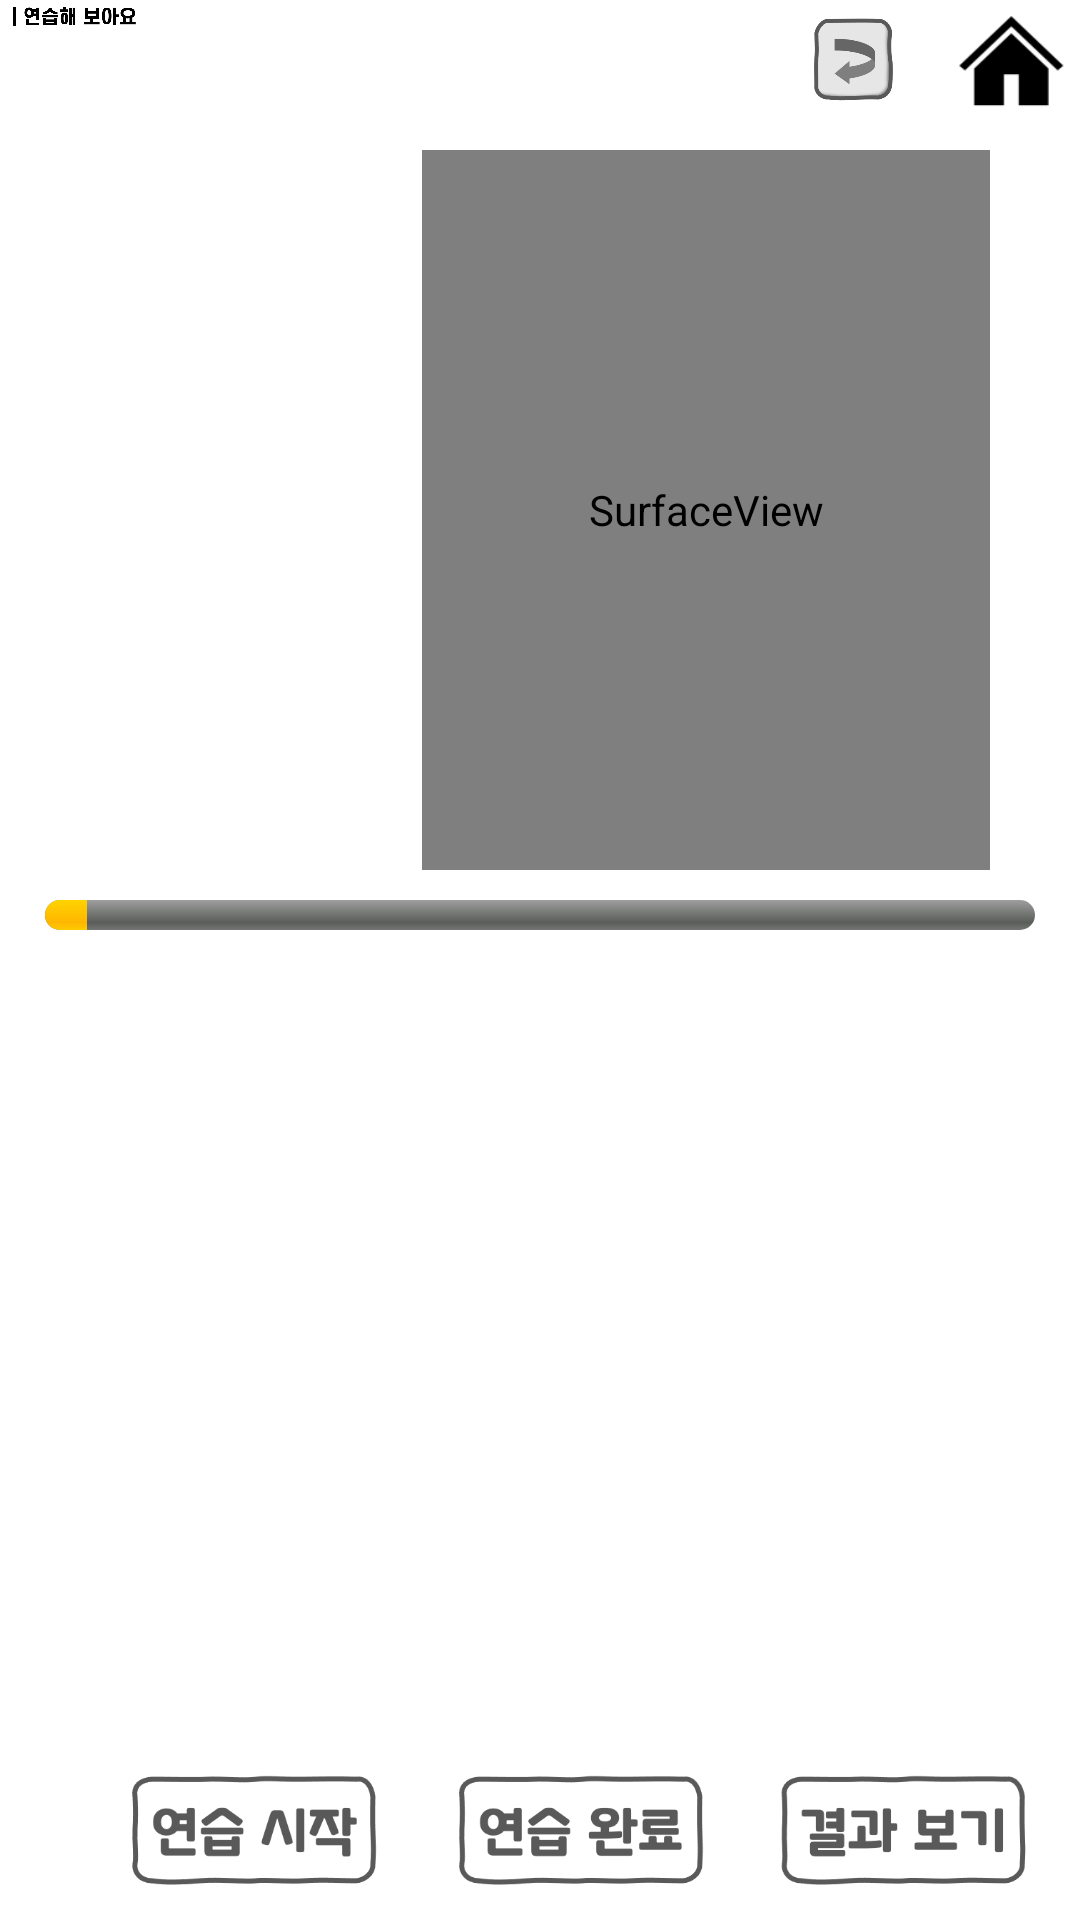

Point at icon controls on the screen. Image size 1080px x 1920px, points as [x,y].
back: [853,59]
home: [1011,61]
